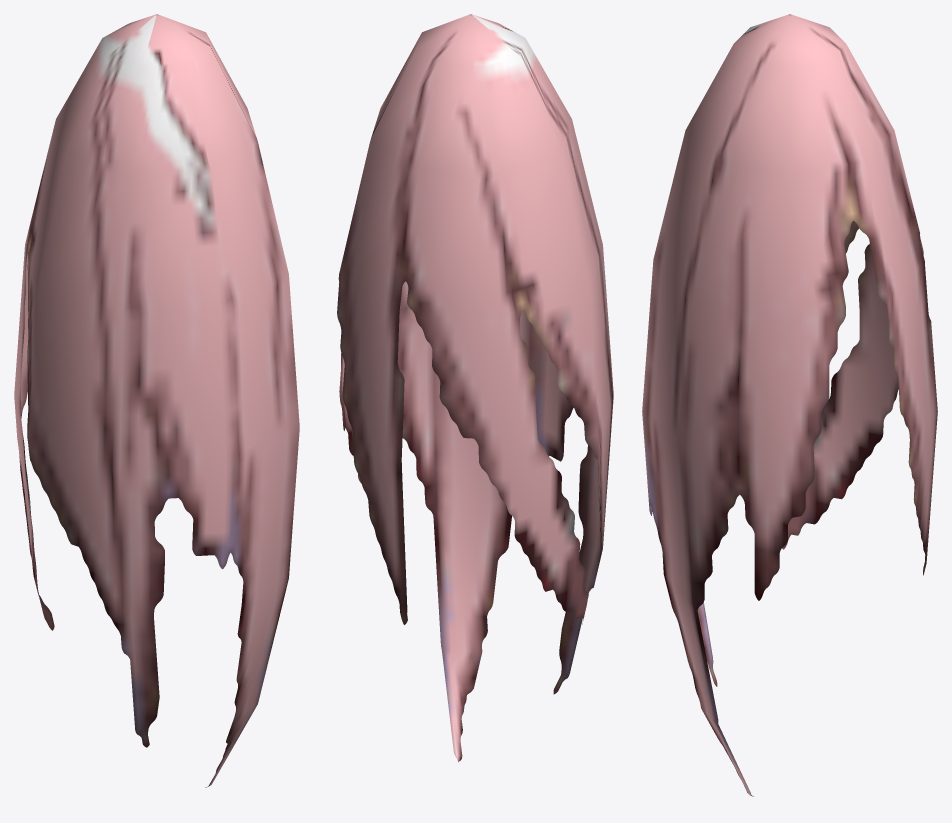
File: madokatail.fbx
The picture shows the model from 3 angles, left to right: view 1: azimuth 30°, elevation 25°; view 2: azimuth 150°, elevation 25°; view 3: azimuth 270°, elevation 25°; orthographic projection.
Parts seen in each view (by area): view 1: tail; view 2: tail; view 3: tail.
Part boxes in pixels (<box>): tail: <box>14,14,299,787</box>; tail: <box>337,14,613,762</box>; tail: <box>642,14,937,796</box>.
Size of the model in its own units: 12.68 by 37.62 by 12.68.
